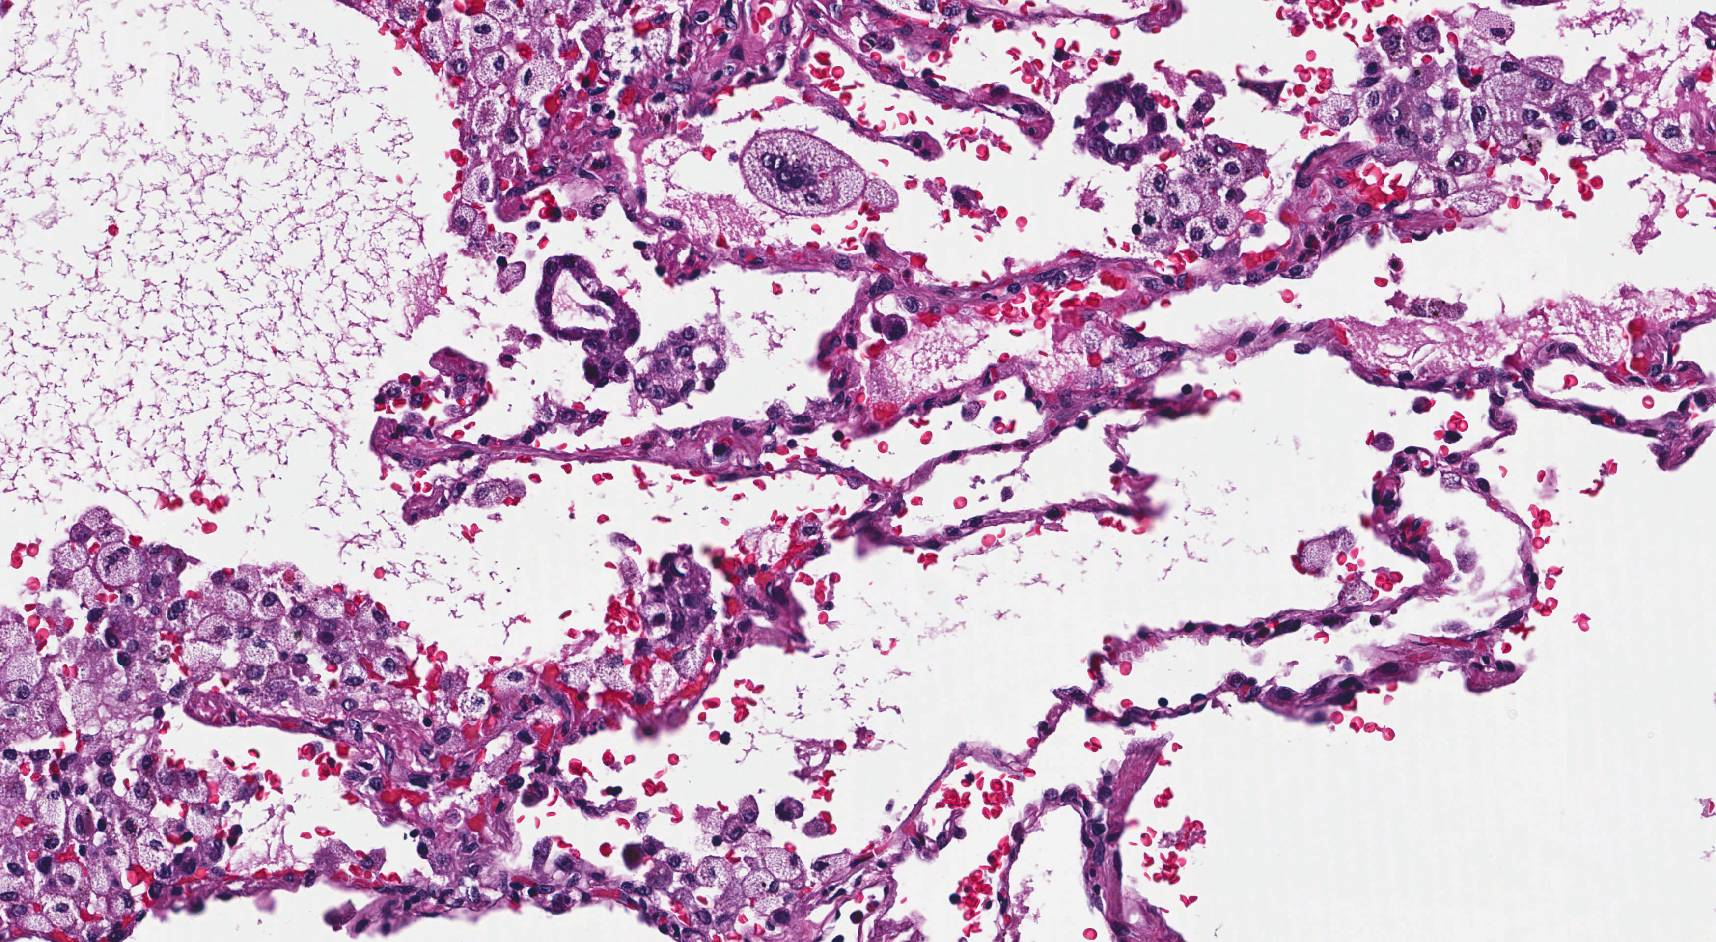stas: (534, 255, 642, 387), (1073, 76, 1171, 163)
